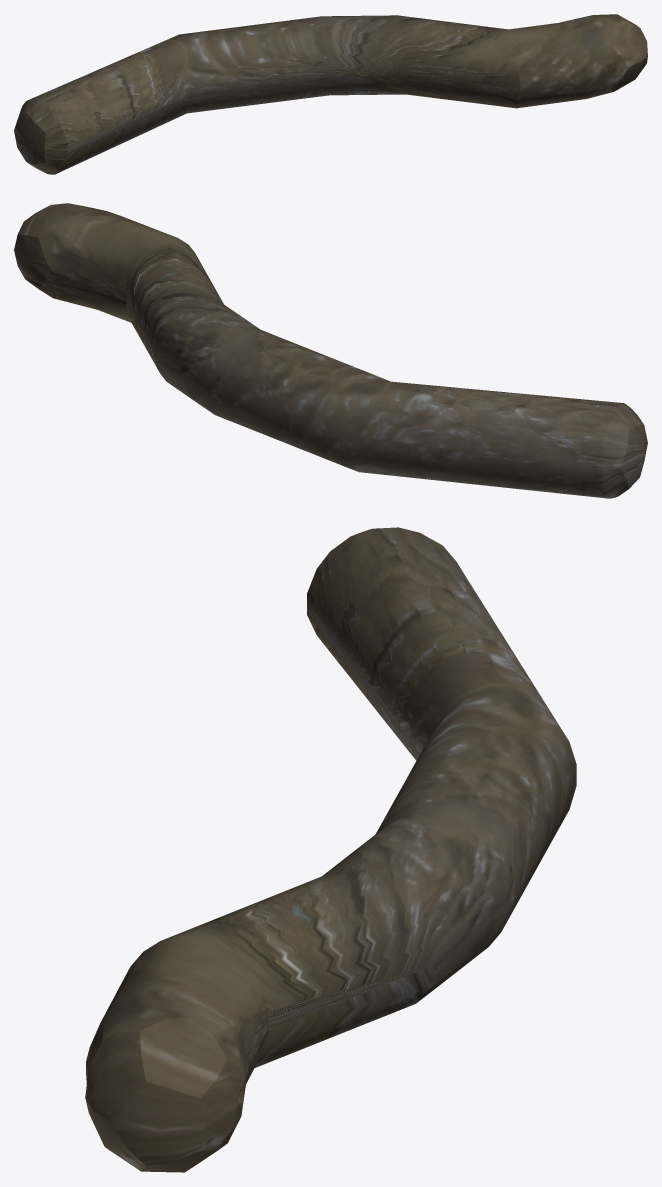
File: CatPoop.fbx
The picture shows the model from 3 angles, top to bottom: view 1: azimuth 30°, elevation 25°; view 2: azimuth 150°, elevation 25°; view 3: azimuth 270°, elevation 25°; orthographic projection. The views are drawn at different scales.
Visible parts, largest first — view 1: pPlatonic2; view 2: pPlatonic2; view 3: pPlatonic2.
Part boxes in pixels (bbox=[...]): pPlatonic2: bbox=[14, 14, 647, 174]; pPlatonic2: bbox=[14, 203, 647, 498]; pPlatonic2: bbox=[85, 527, 576, 1172].
Bounding box in the file's own units: 1.21 × 0.1481 × 0.453.
Materials: 1 (1 with a texture image).
